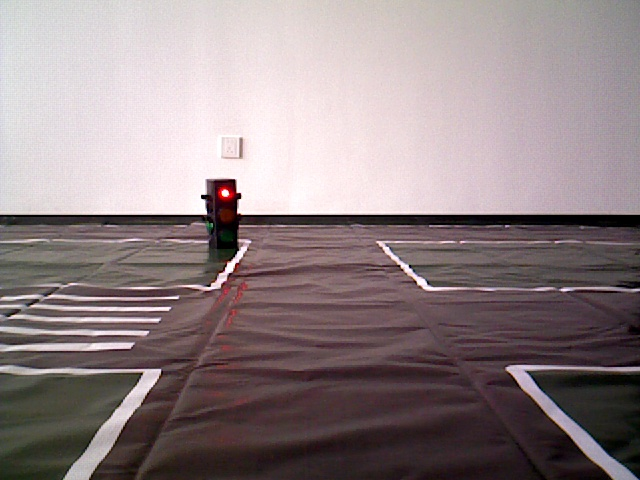red: (206, 183, 235, 247)
